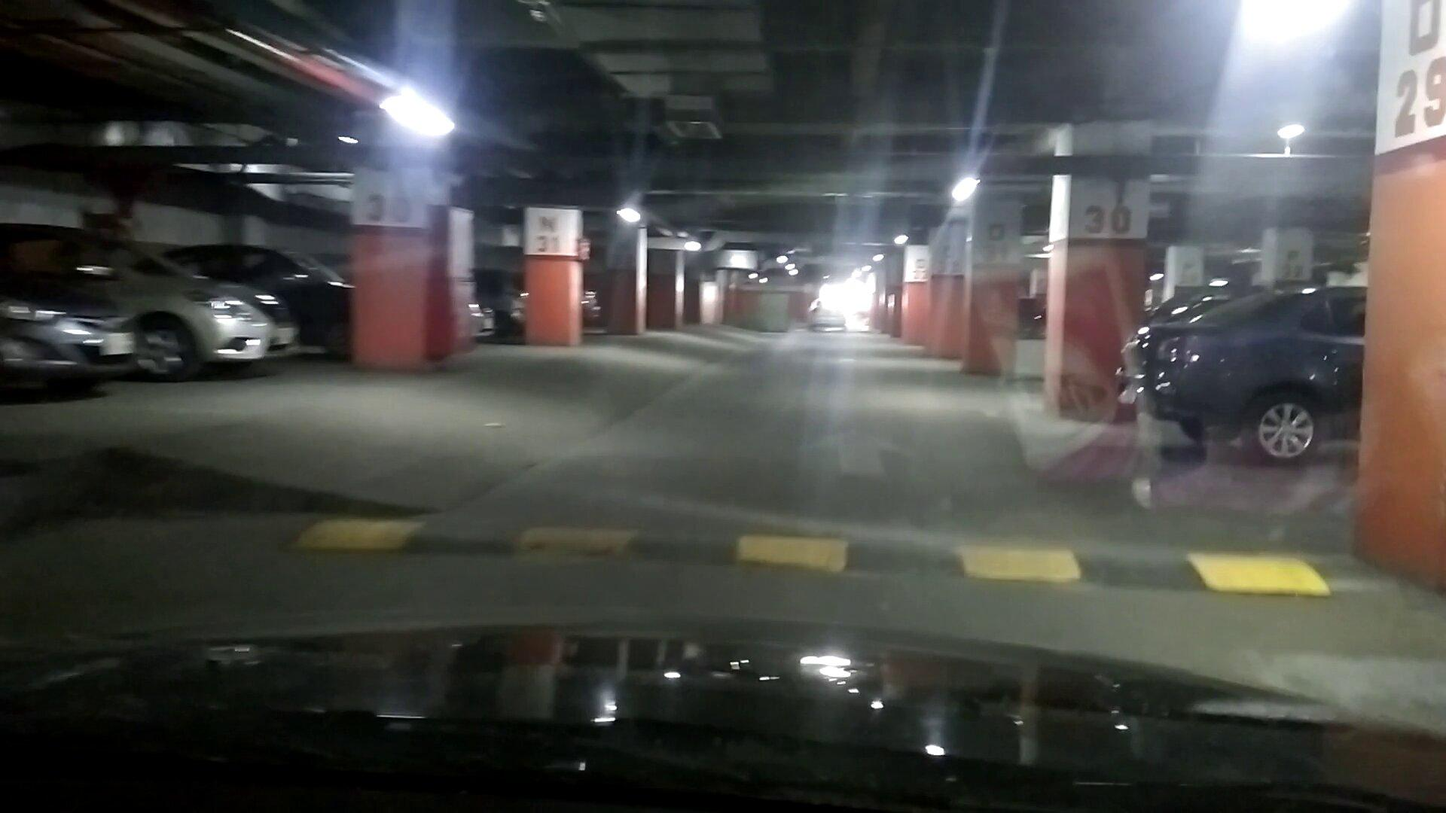Bump: (290, 495, 1342, 623)
